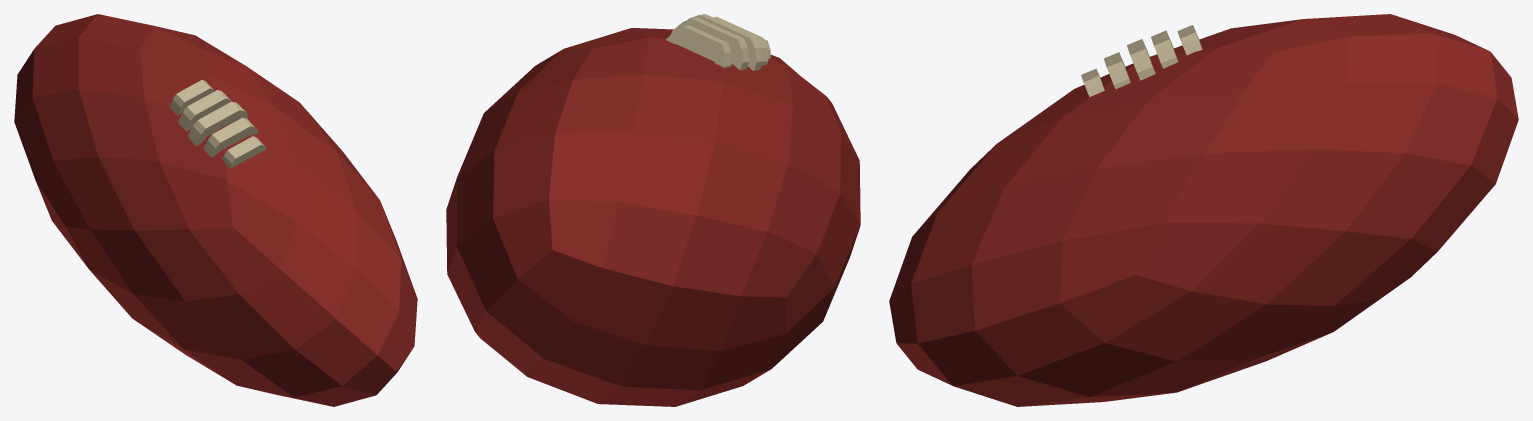
The model's file is Football.fbx.
3 views of the same model, side by side, from view 1: azimuth 30°, elevation 25°; view 2: azimuth 150°, elevation 25°; view 3: azimuth 270°, elevation 25° (orthographic). The views are drawn at different scales.
Parts seen in each view (by area): view 1: Cube, Cube.001, Cube.003, Cube.002, Cube.005, Cube.004; view 2: Cube, Cube.005, Cube.002, Cube.001; view 3: Cube, Cube.001, Cube.002, Cube.003.
Boxes of the visible parts, <box> form: Cube: <box>14,14,417,406</box>; Cube.001: <box>188,101,248,146</box>; Cube.003: <box>203,117,258,157</box>; Cube.002: <box>178,90,231,131</box>; Cube.005: <box>169,80,214,115</box>; Cube.004: <box>222,136,266,168</box>; Cube: <box>446,28,860,406</box>; Cube.005: <box>665,25,731,68</box>; Cube.002: <box>671,17,749,70</box>; Cube.001: <box>688,14,763,70</box>; Cube: <box>889,14,1518,406</box>; Cube.001: <box>1127,39,1155,80</box>; Cube.002: <box>1151,30,1178,68</box>; Cube.003: <box>1103,52,1130,89</box>.
Bounding box in the file's own units: 32.96 × 36.41 × 60.16.
